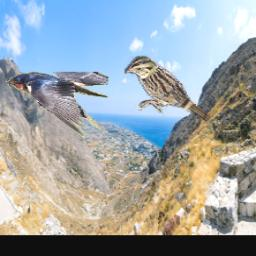Sparrow: (123, 56, 212, 123)
Swallow: (5, 73, 107, 136)
